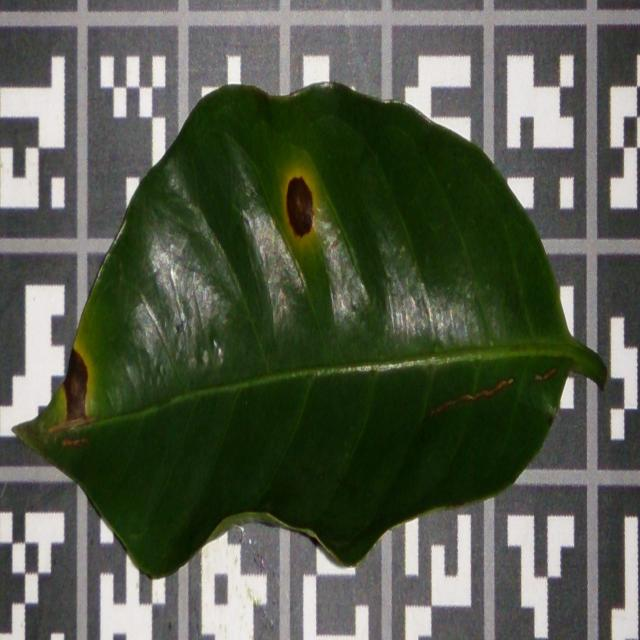Enfermedad-Mancha-de-hierro: (14, 84, 610, 581)
